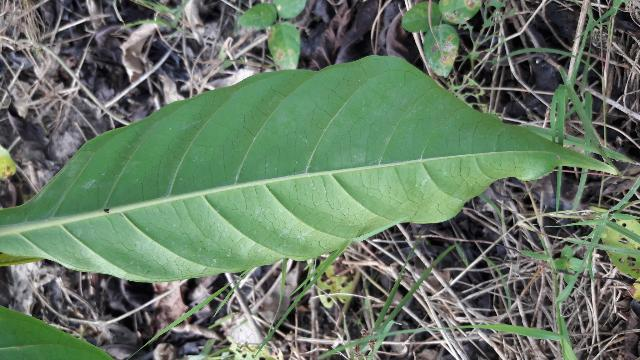healthy: (3, 63, 612, 281)
